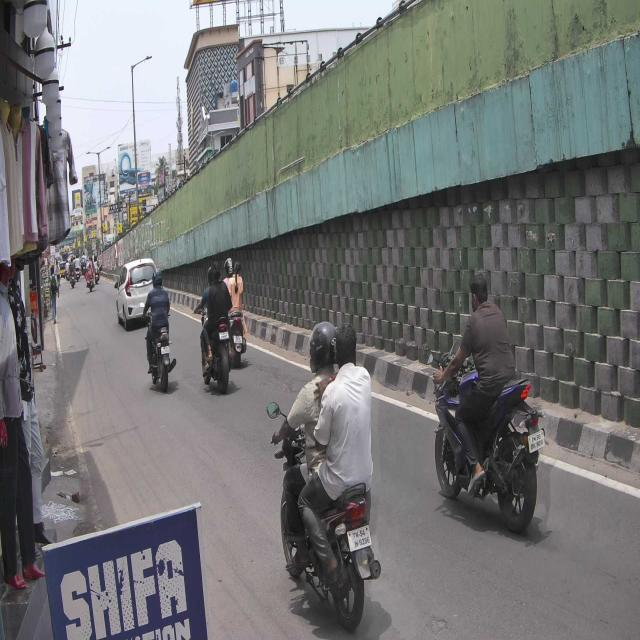double_rider: (271, 317, 384, 627)
single_rider: (428, 271, 546, 534)
